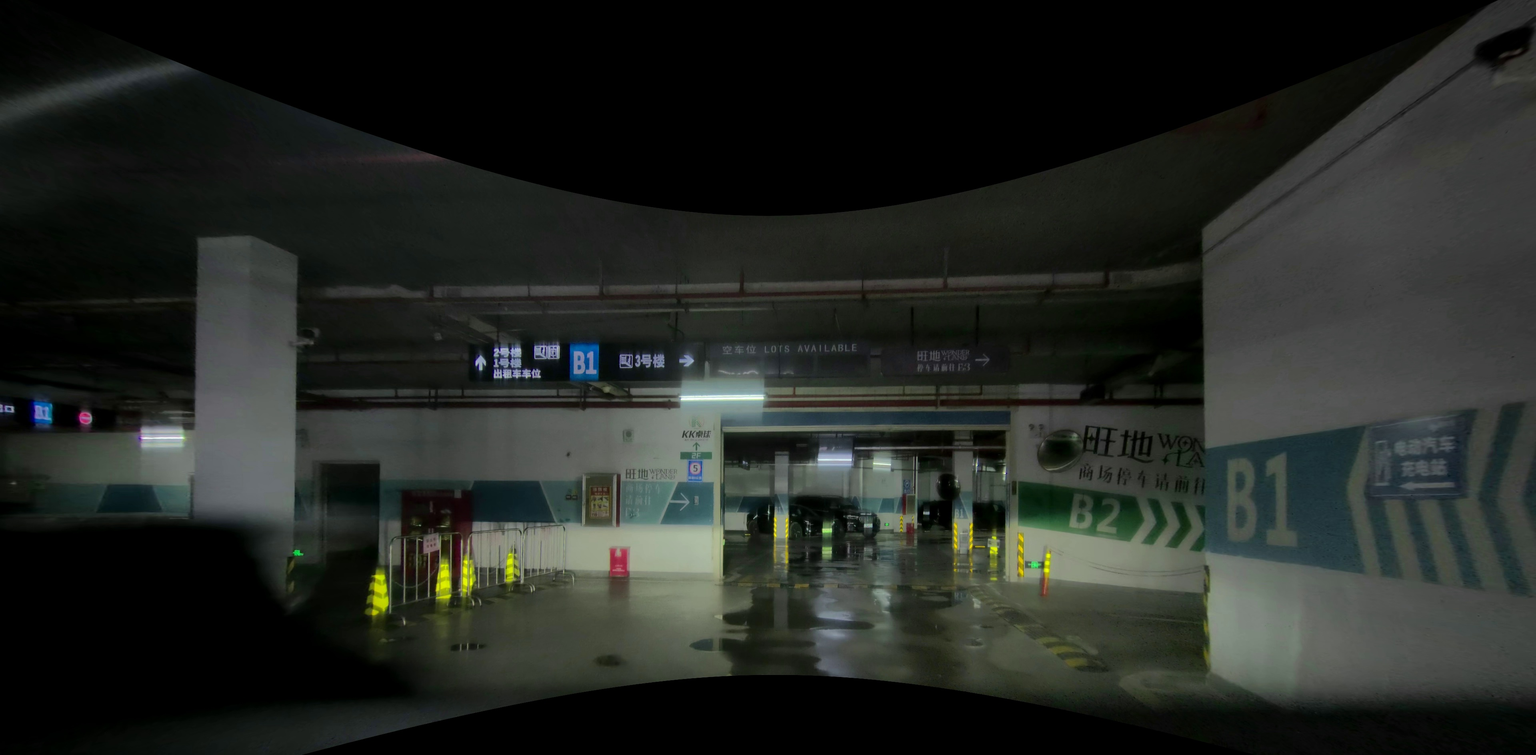1号楼: (491, 357, 522, 367)
2F: (679, 453, 711, 459)
2号楼: (491, 346, 522, 357)
3号楼: (633, 353, 666, 368)
5: (689, 463, 700, 474)
B1: (1222, 451, 1296, 545), (569, 347, 598, 378), (34, 403, 51, 422), (954, 508, 963, 518)
B2: (1067, 492, 1118, 533)
B3: (623, 507, 643, 519)
KK桌球: (678, 430, 708, 438)
elevators: (546, 345, 559, 359)
exits: (1024, 561, 1044, 567), (293, 550, 305, 556)
上: (474, 354, 488, 369), (689, 441, 702, 451)
停车请前往 B3: (917, 363, 971, 373)
充电站: (1398, 459, 1447, 475)
出租车车位: (491, 367, 540, 378)
右: (1134, 502, 1203, 553), (670, 490, 690, 511), (974, 350, 993, 370), (678, 352, 693, 368)
商场停车: (624, 483, 665, 493)
商场停车请前往: (1075, 462, 1202, 493)
左: (1347, 411, 1525, 593), (1391, 480, 1457, 494)
旺地 WONDER LAND: (918, 348, 970, 362), (623, 467, 675, 478)
旺地WONDERLAND: (1081, 423, 1201, 464)
电动汽车: (1390, 435, 1454, 451)
禁止通行: (78, 410, 92, 425)
空车位 LOTS AVAILABLE: (717, 342, 855, 355)
请前往: (624, 495, 656, 505)
